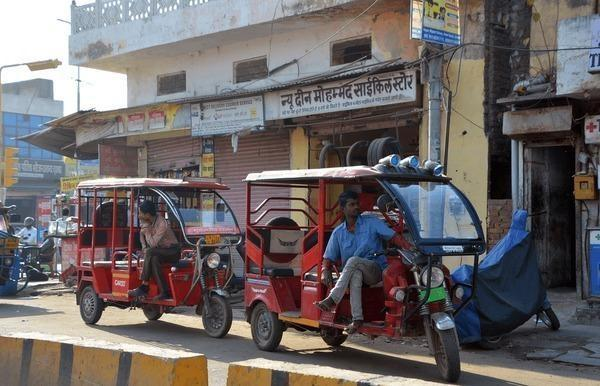keke: (250, 162, 473, 382), (74, 177, 240, 340)
